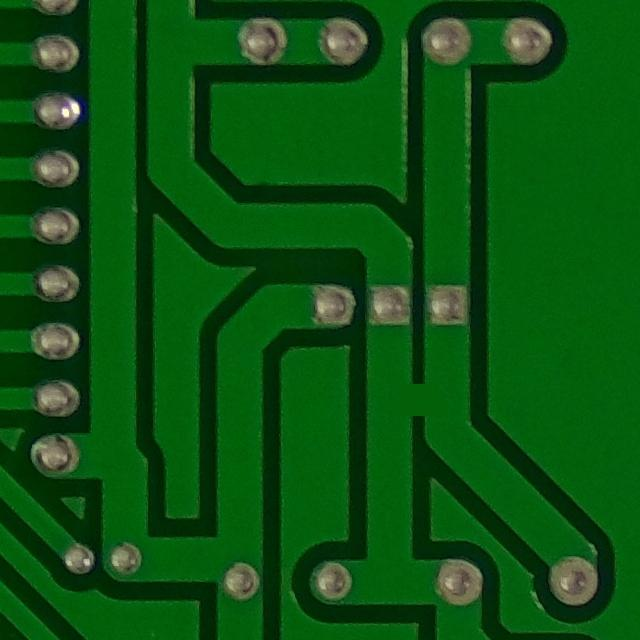short: (363, 364, 479, 444)
